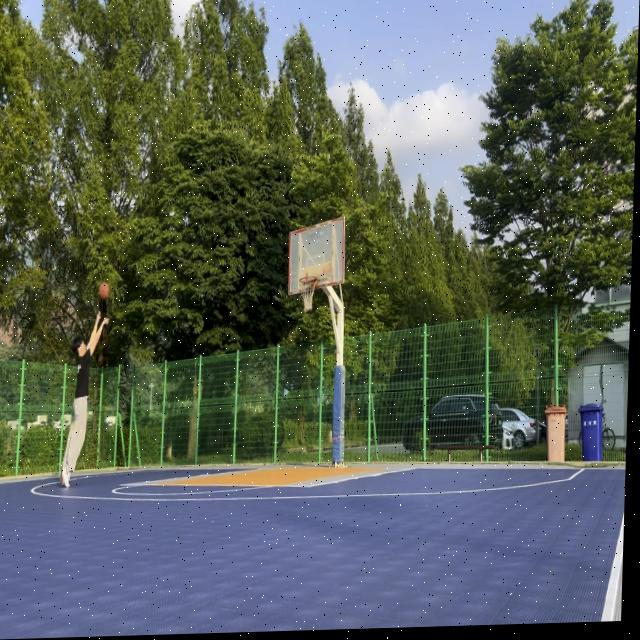basketball: (99, 281, 110, 300)
hoop: (298, 275, 318, 313)
